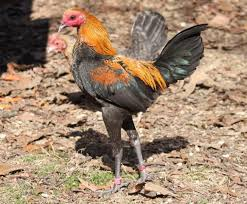Gà/Chicken: (46, 1, 223, 197)
